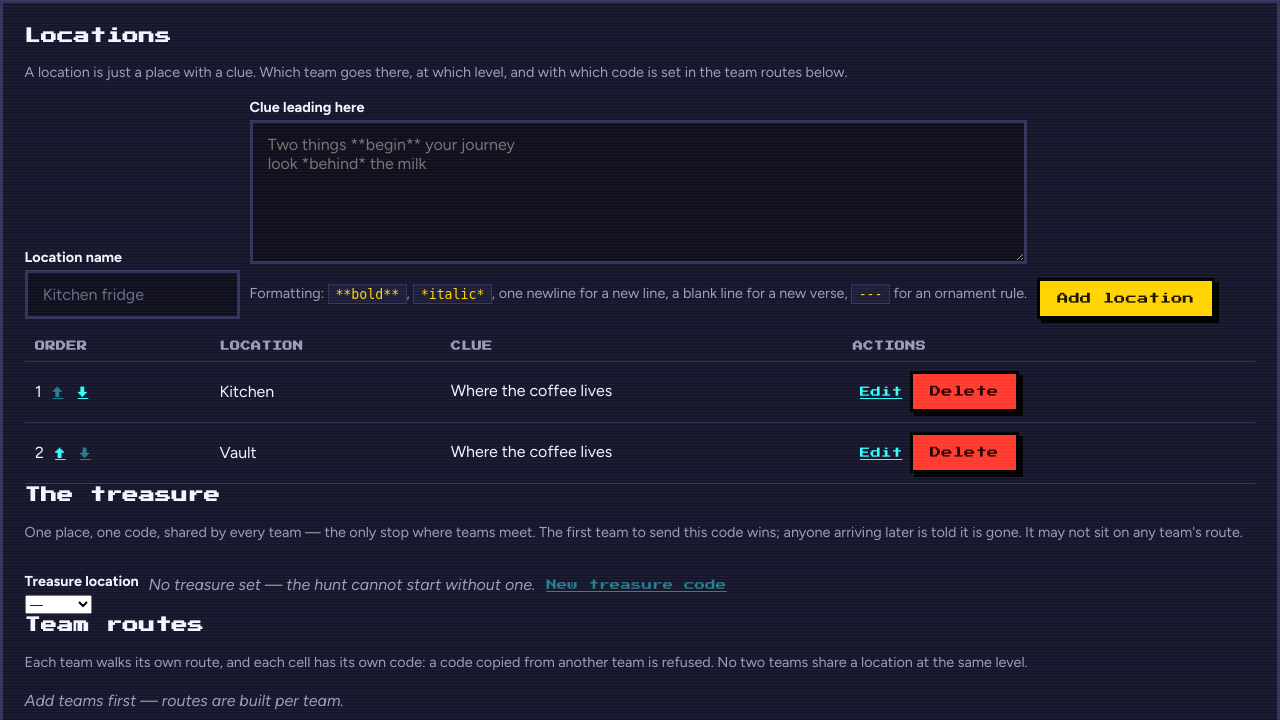
Scenario: StationsPanel treasure › explains a treasure location a team already walks through
Select "Vault" in the dropdown labelled "Treasure location": (58, 605) [25, 595, 92, 614]
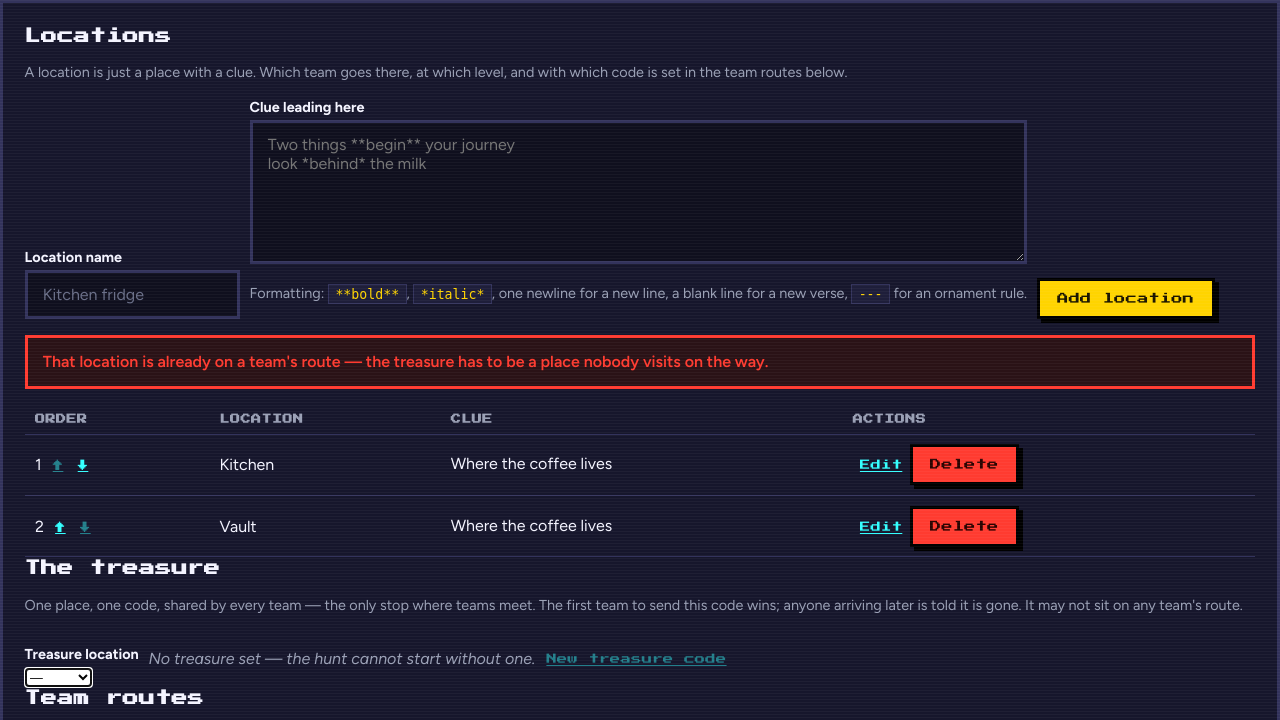
Result: the text "already on a team's route" is shown at [43, 352, 768, 371]
